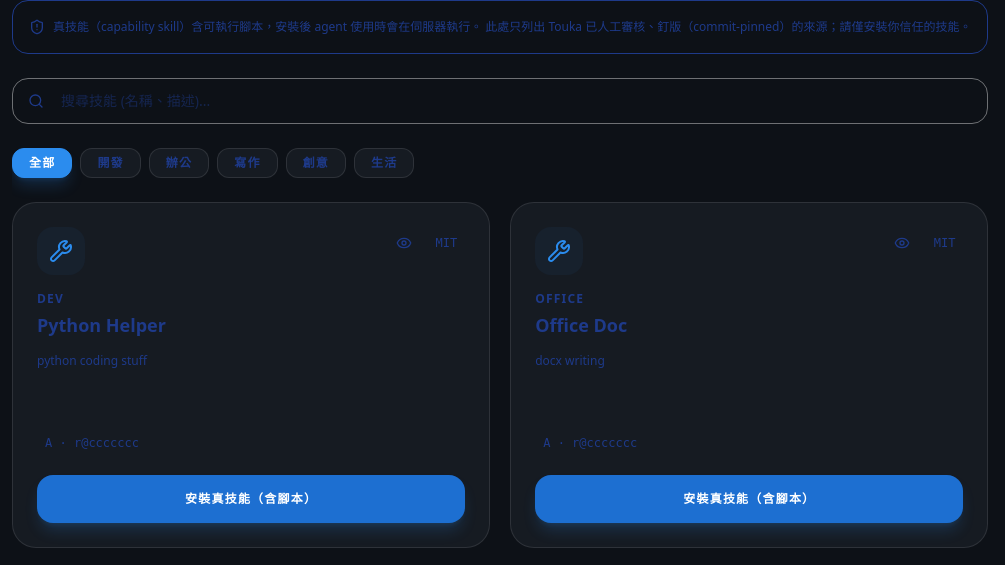
Test: SkillCatalogView B3：搜尋 › 搜尋無結果顯示 no_results
In the field labelled "搜尋技能 (名稱、描述)...": (500, 100) [12,78,988,124], type "zzz-none"
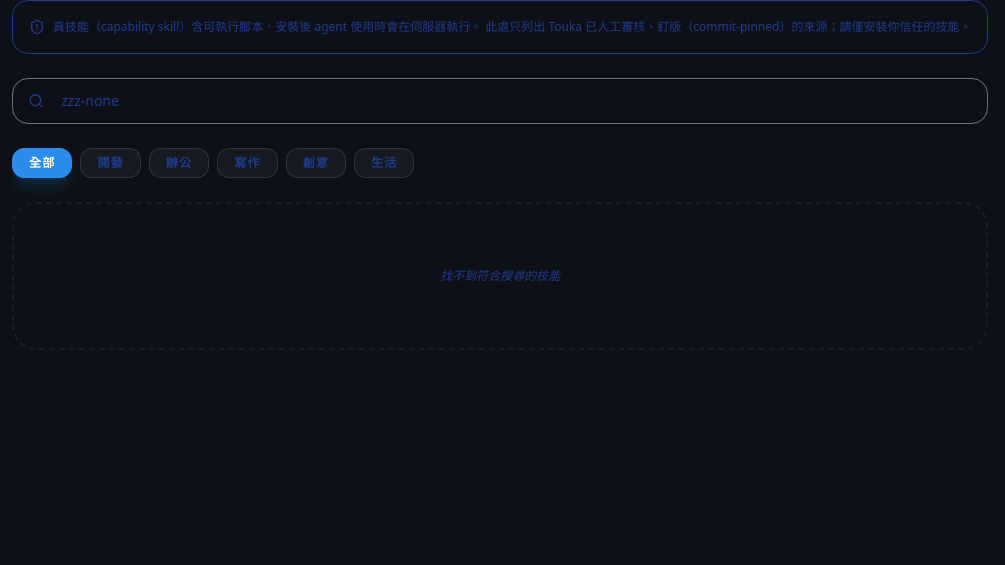
Check: the text "找不到符合搜尋的技能" is shown, box [12,202,988,350]
